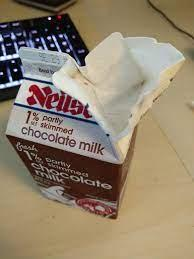cardboard: (0, 15, 184, 217)
